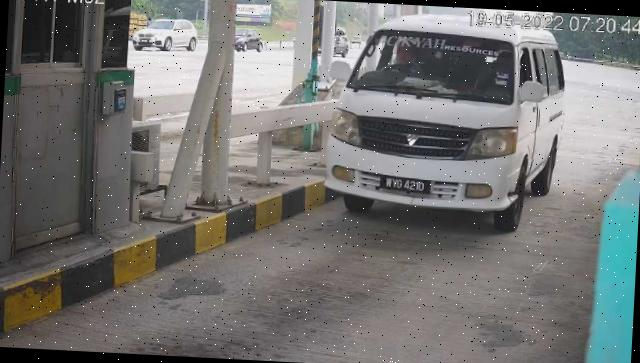License_Plate: (380, 174, 434, 198)
van: (323, 11, 570, 236)
